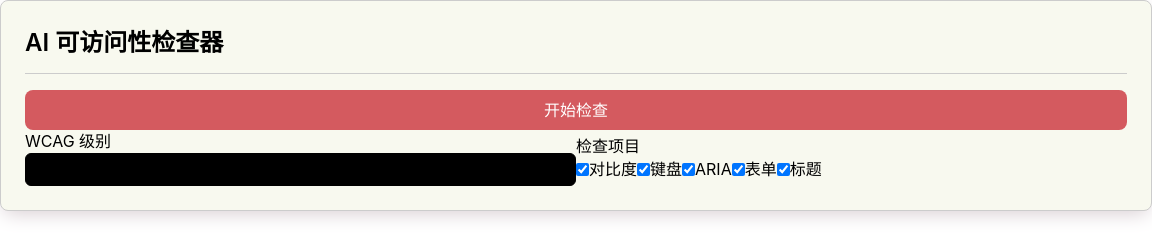
Test: AIAccessibilityChecker › 应该在点击开始检查时执行检查
Click the button "开始检查".
click(576, 110)  # box [25,90,1127,130]
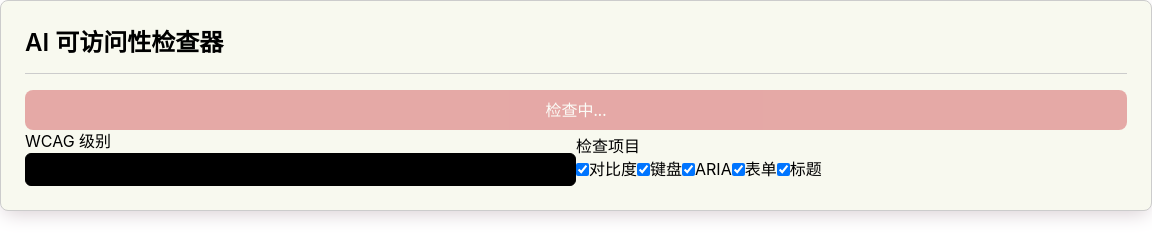
Expected: the button "检查中..." is shown, [25,90,1127,130]
